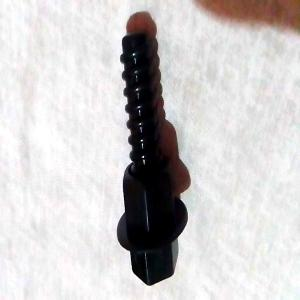parafuso: (118, 29, 189, 287)
